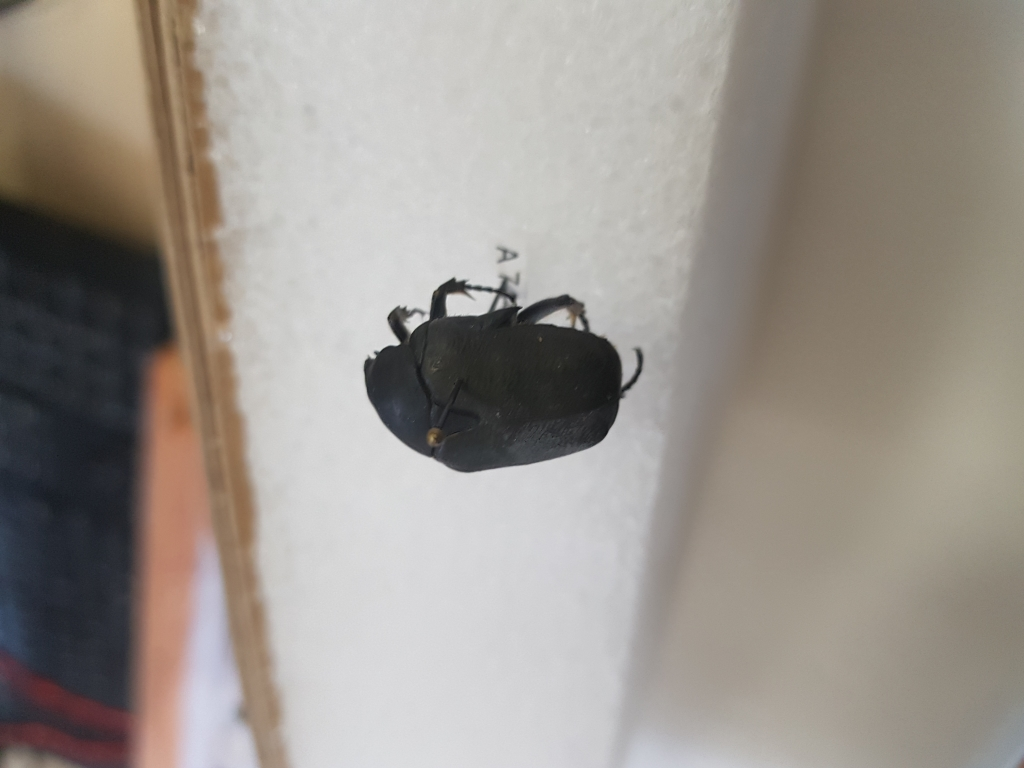Protaetia_afflicta: (358, 274, 649, 479)
